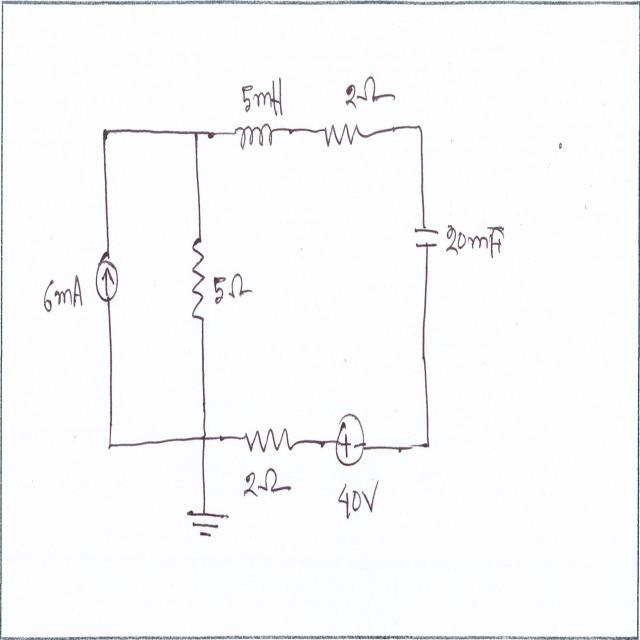capacitor: (411, 217, 441, 254)
current_source: (93, 250, 121, 302)
ground: (187, 500, 231, 545)
inductor: (233, 114, 277, 154)
resistor: (242, 420, 294, 459), (190, 228, 208, 326), (321, 112, 364, 150)
voltage_source: (336, 402, 366, 471)
